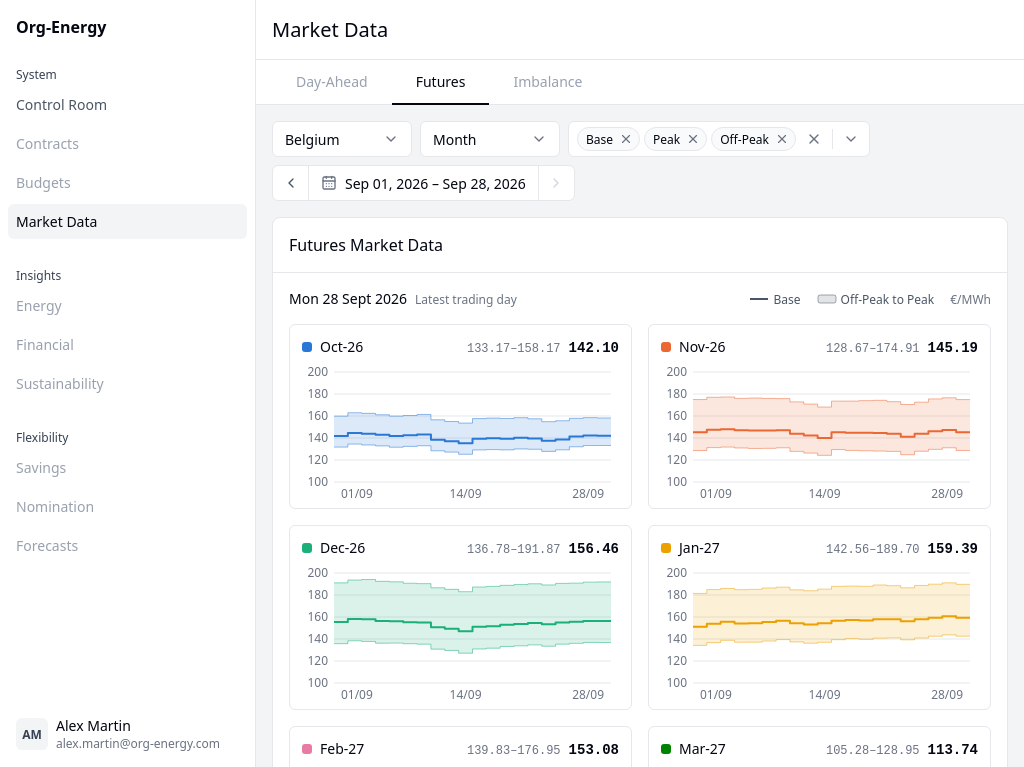
Test: FuturesSection › asks for a profile when none is selected
Expected: the element named "Futures filters" is shown, [272, 121, 870, 201]
Click the button named "Clear all profiles" at {"x": 814, "y": 139}, box [800, 125, 828, 153]
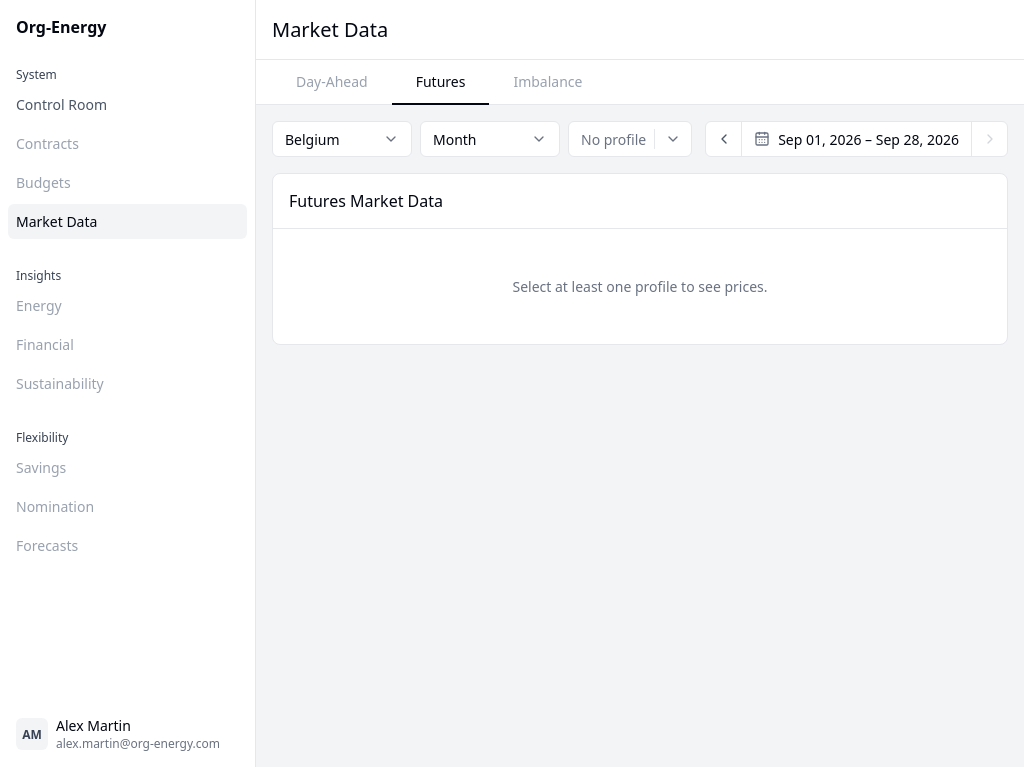
Now the text "Select at least one profile to see prices." is shown, box [512, 277, 768, 296]
